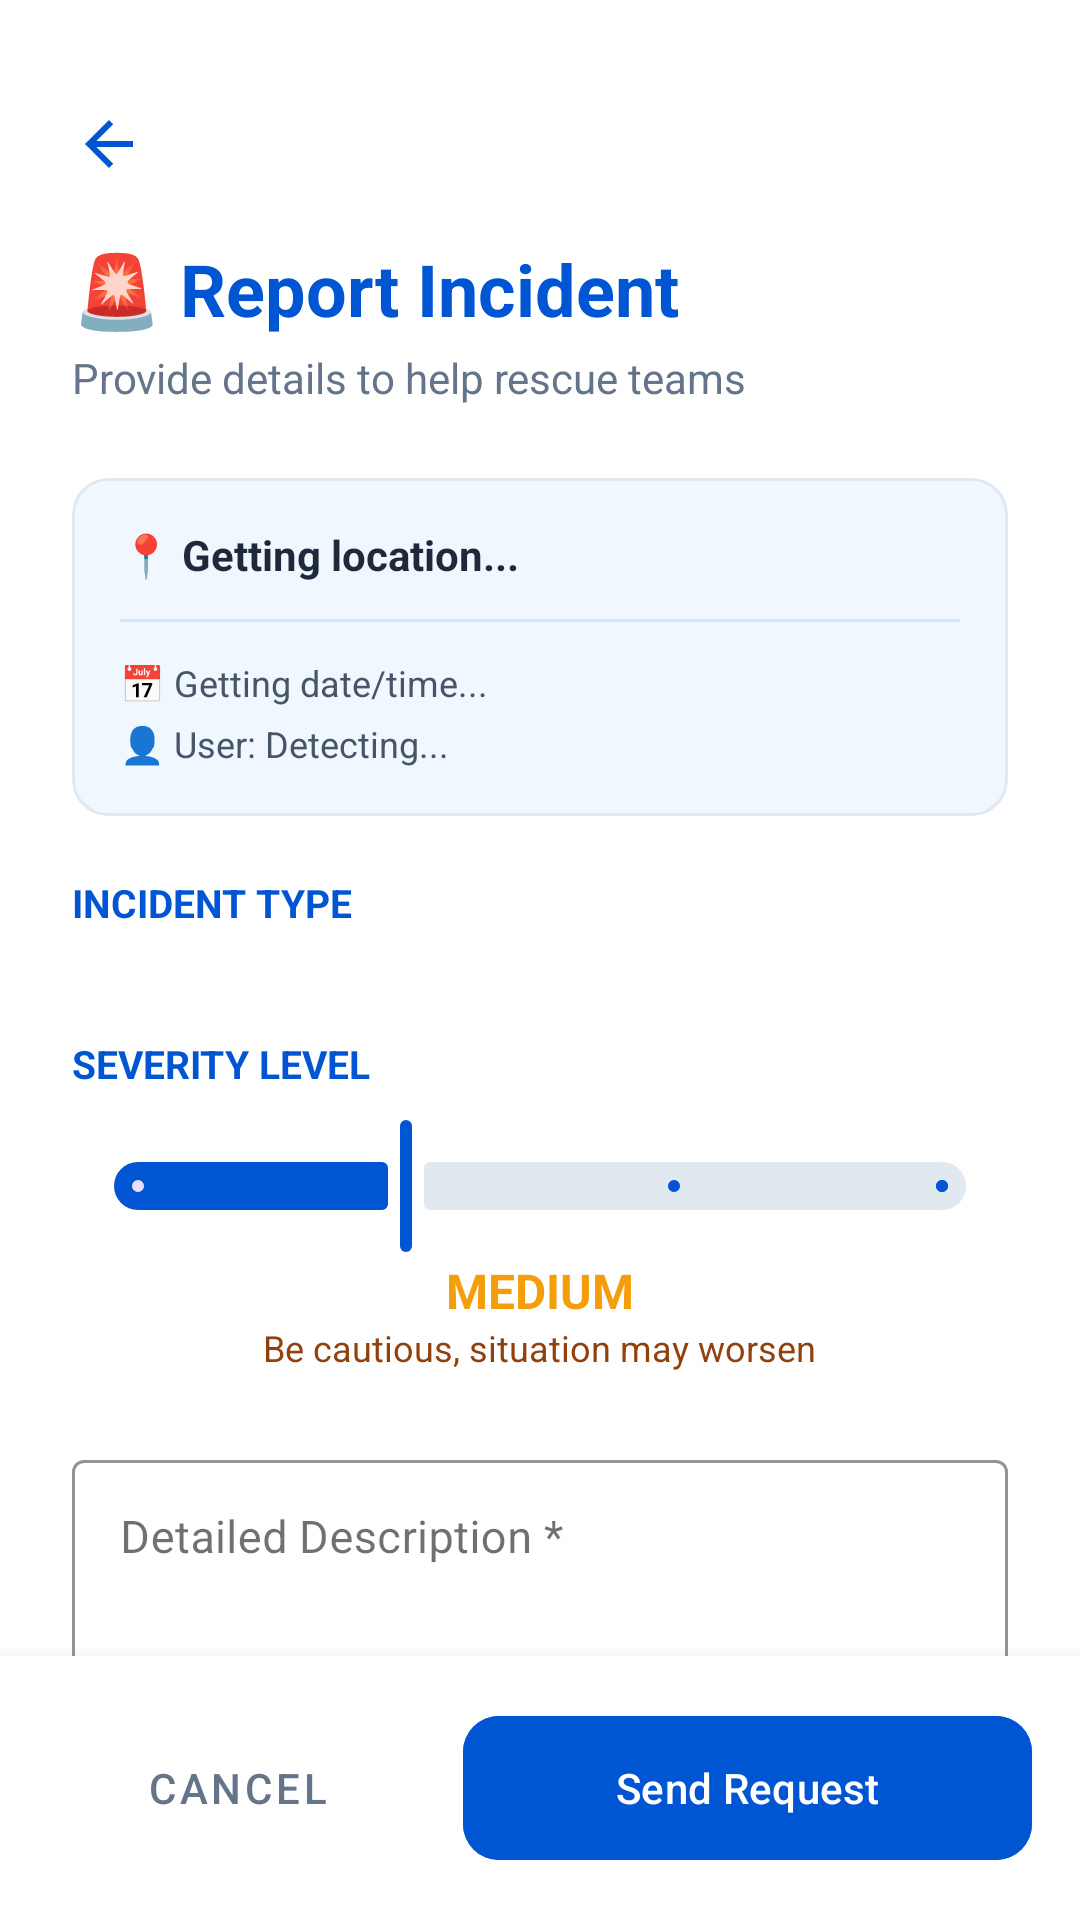

Icon bounding boxes for this 1080×1920 phone screenshot, format [x1=x1, y1=y1, x2=x2, y2=y2]:
Back: [x1=85, y1=120, x2=133, y2=168]
